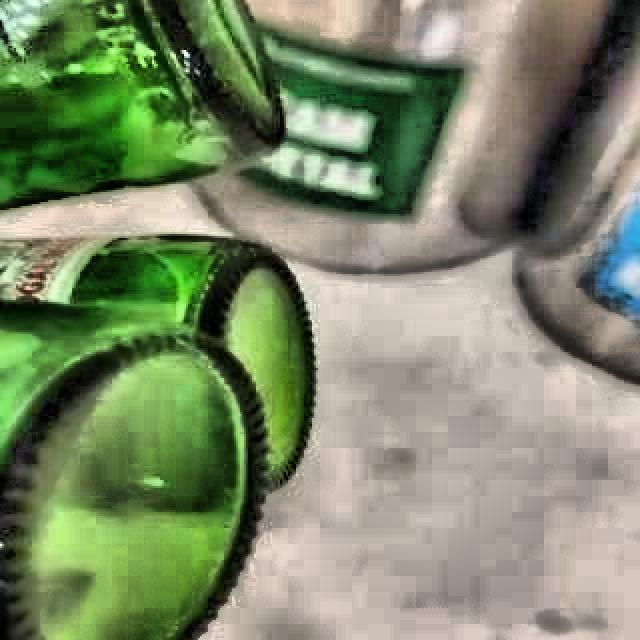glass: (0, 236, 315, 640)
